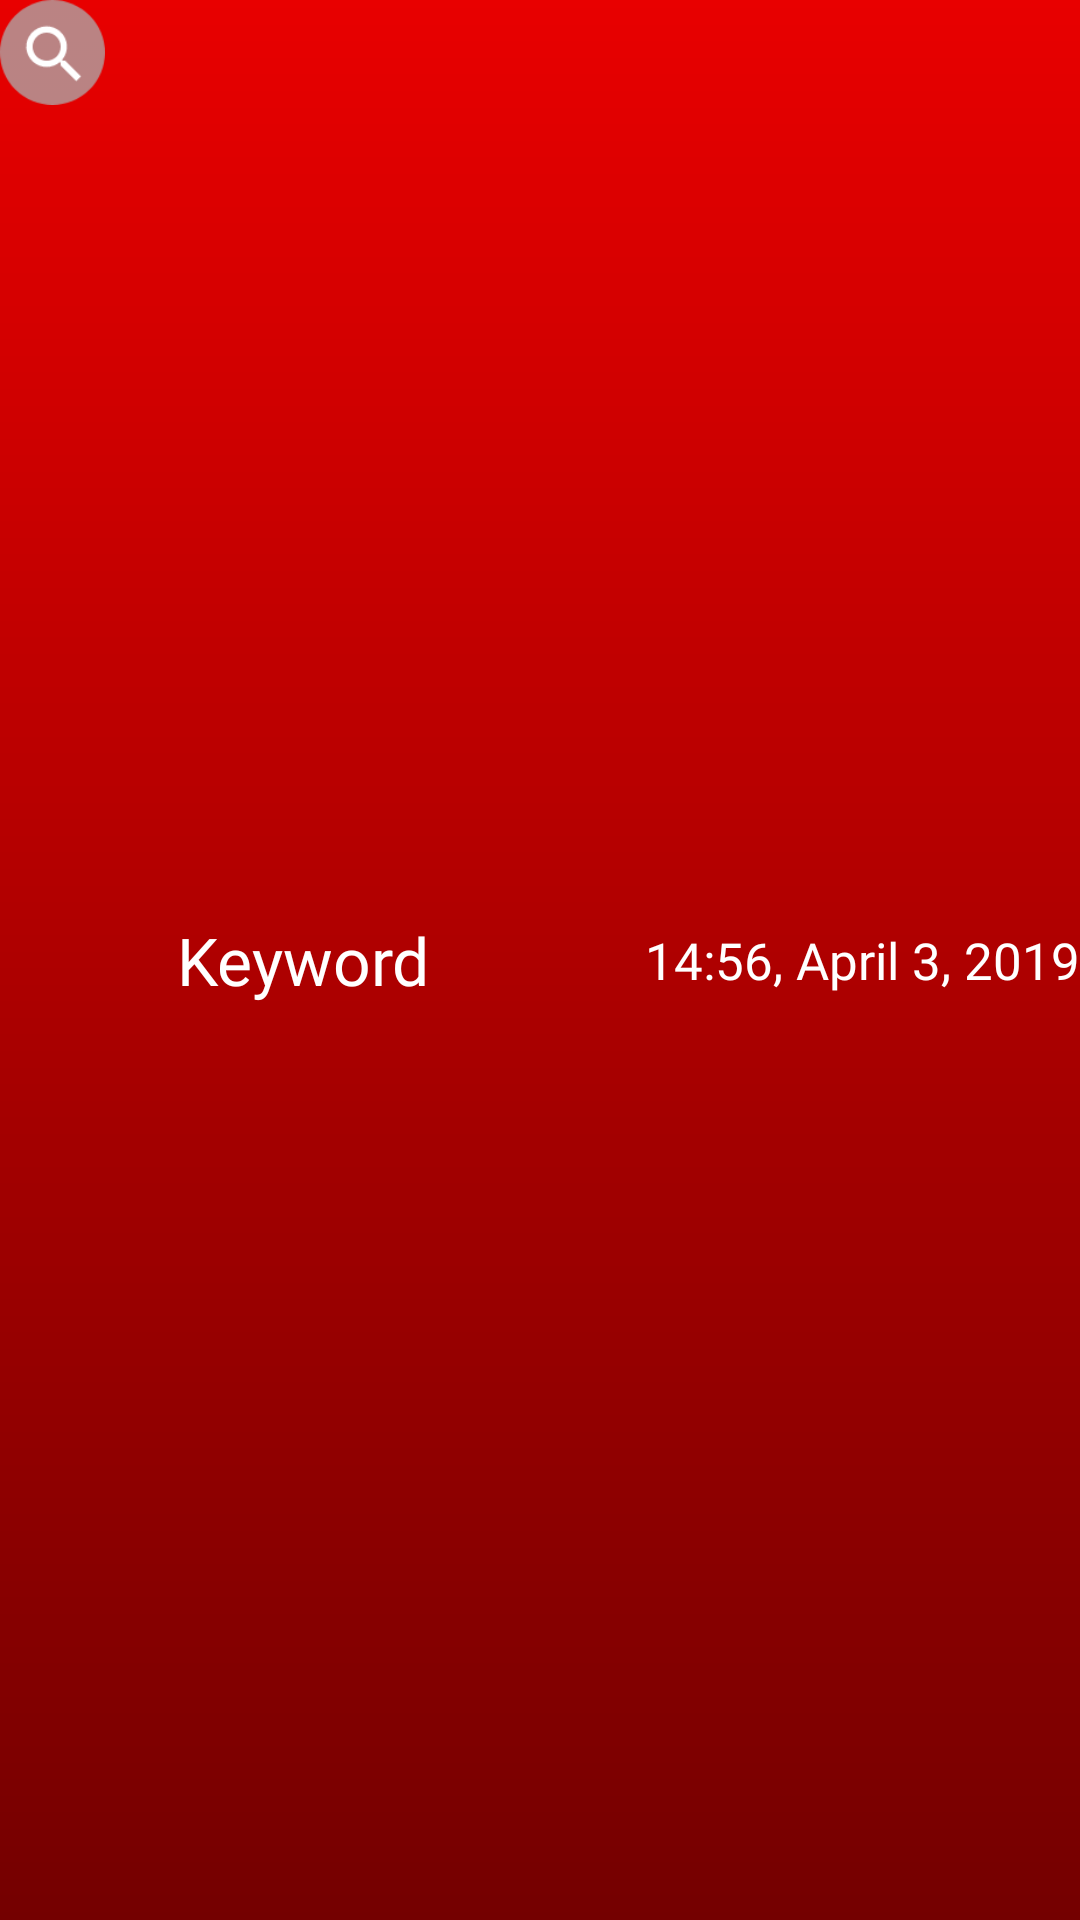

Named icons in this screenshot (1080w x 1920h) and their centers, (x=x, y=y):
search: (x=52, y=52)
